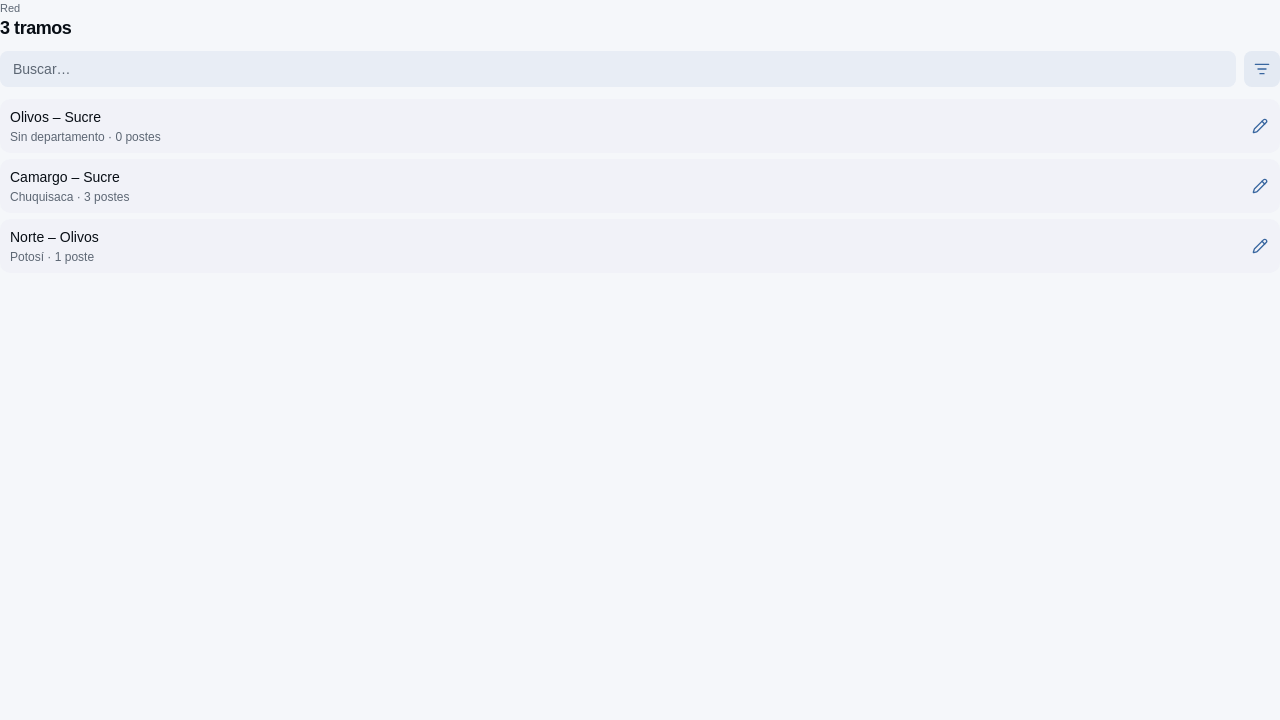
Test case: the list › says on the button that a filter is on, and takes it off from the same place
Step 1. Click the button named "Filtros" → {"x": 1262, "y": 69}, box [1244, 51, 1279, 87]
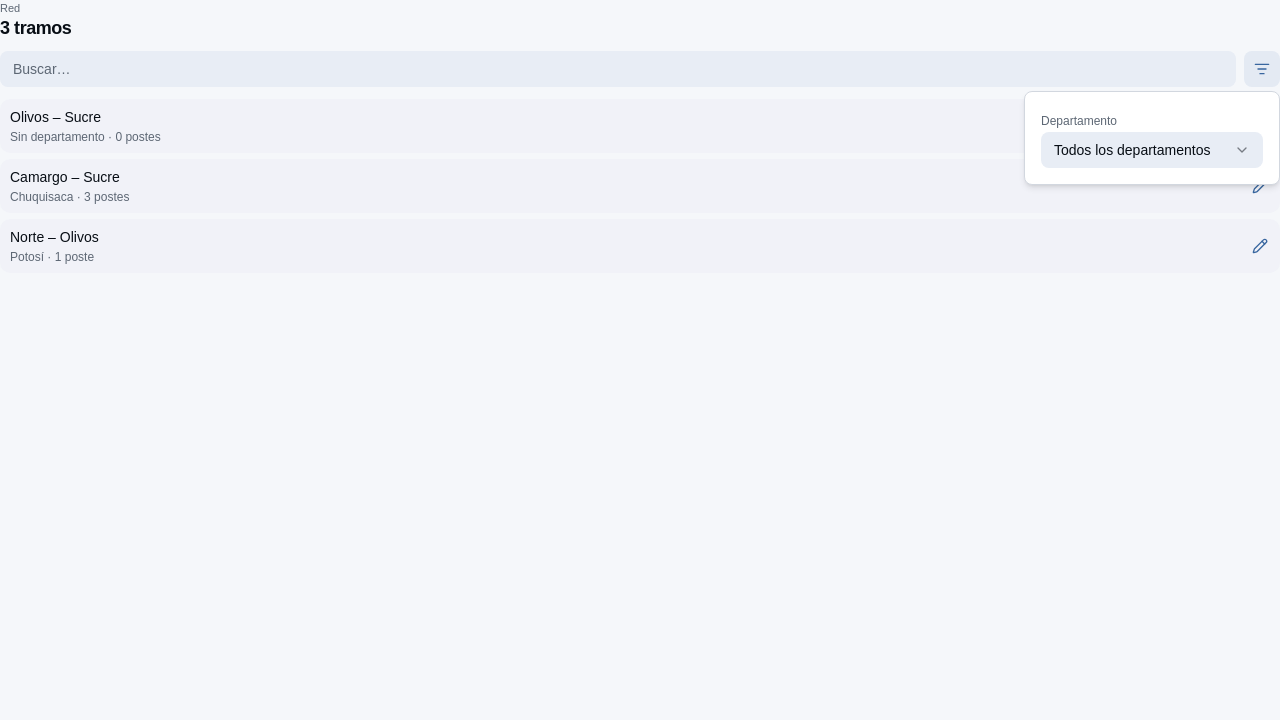
Step 2. Click the dropdown named "Filtrar por departamento" → {"x": 1152, "y": 150}, box [1041, 132, 1263, 168]
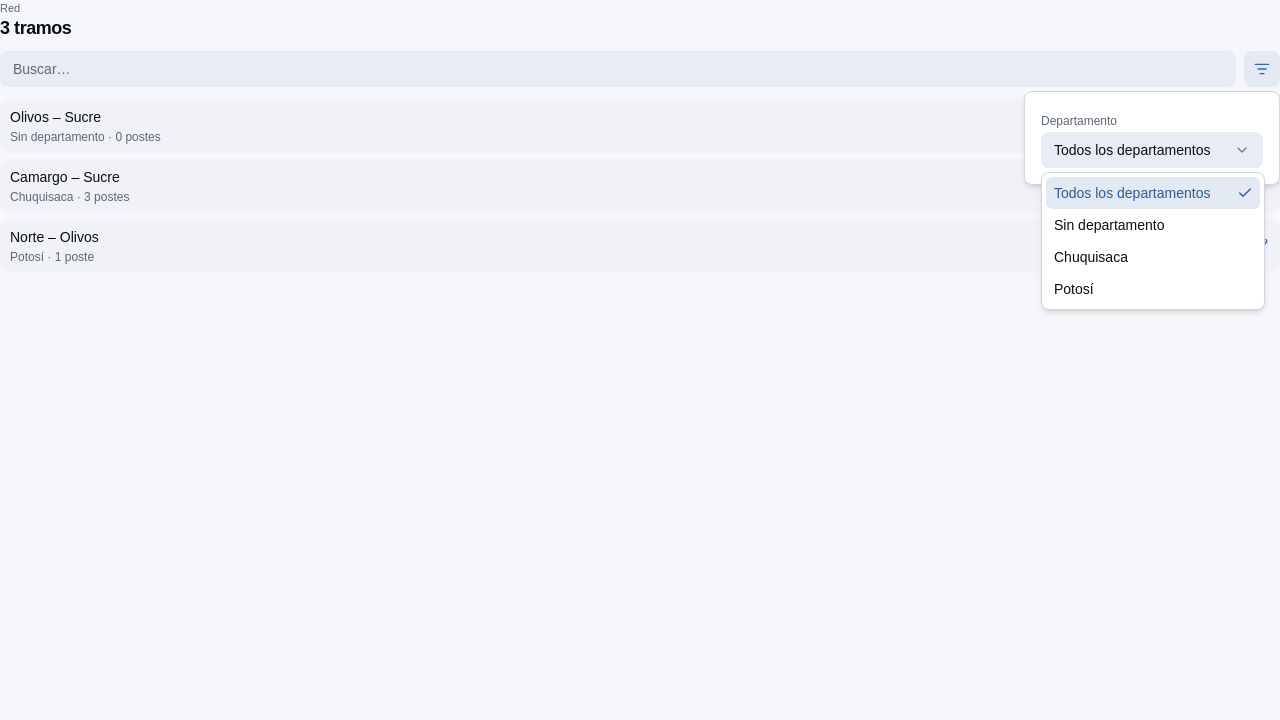
Step 3. Click the option "Potosí" → {"x": 1074, "y": 289}, box [1054, 281, 1094, 297]
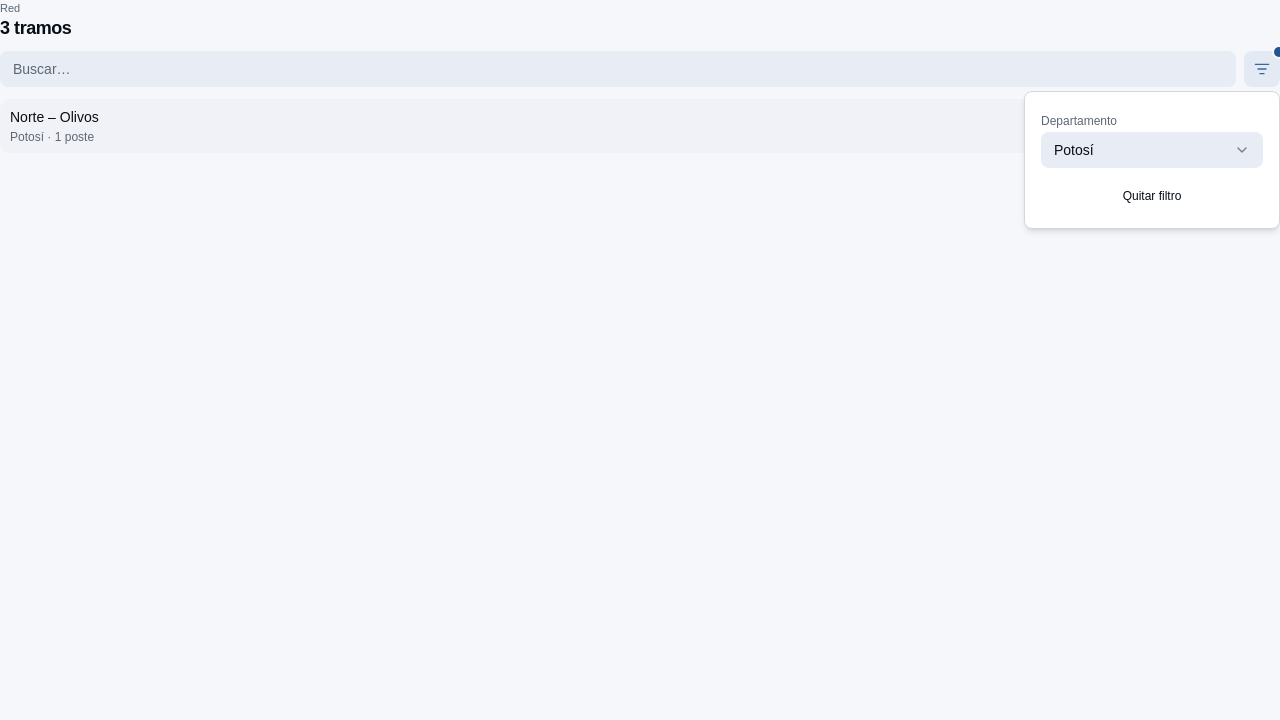
Expected: the button named "Filtros (1 aplicado)" is shown, [1244, 51, 1279, 87]
Step 4. Click the button "Quitar filtro" → {"x": 1152, "y": 196}, box [1041, 180, 1263, 212]
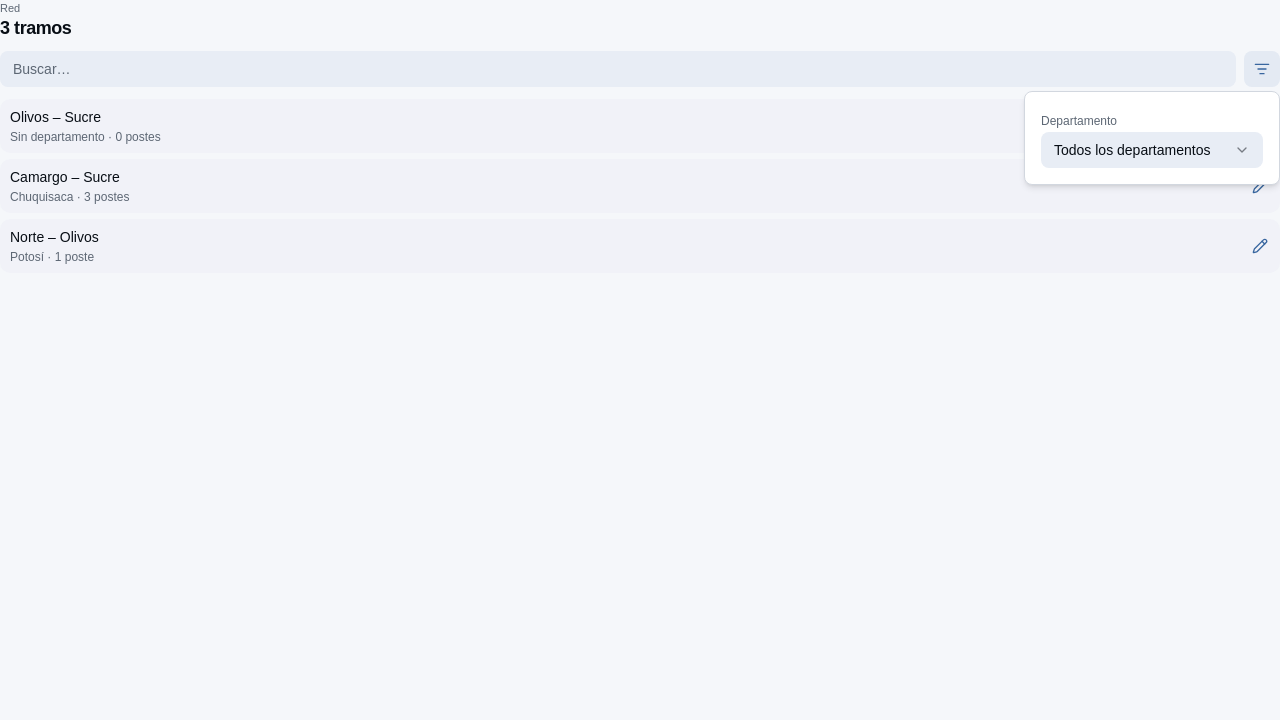
Expected: the button named "Filtros" is shown, [1244, 51, 1279, 87]
Expected: the button "Olivos – Sucre Sin departamento · 0 postes" is shown, [0, 99, 1240, 153]
Expected: the button "Camargo – Sucre Chuquisaca · 3 postes" is shown, [0, 159, 1240, 213]
